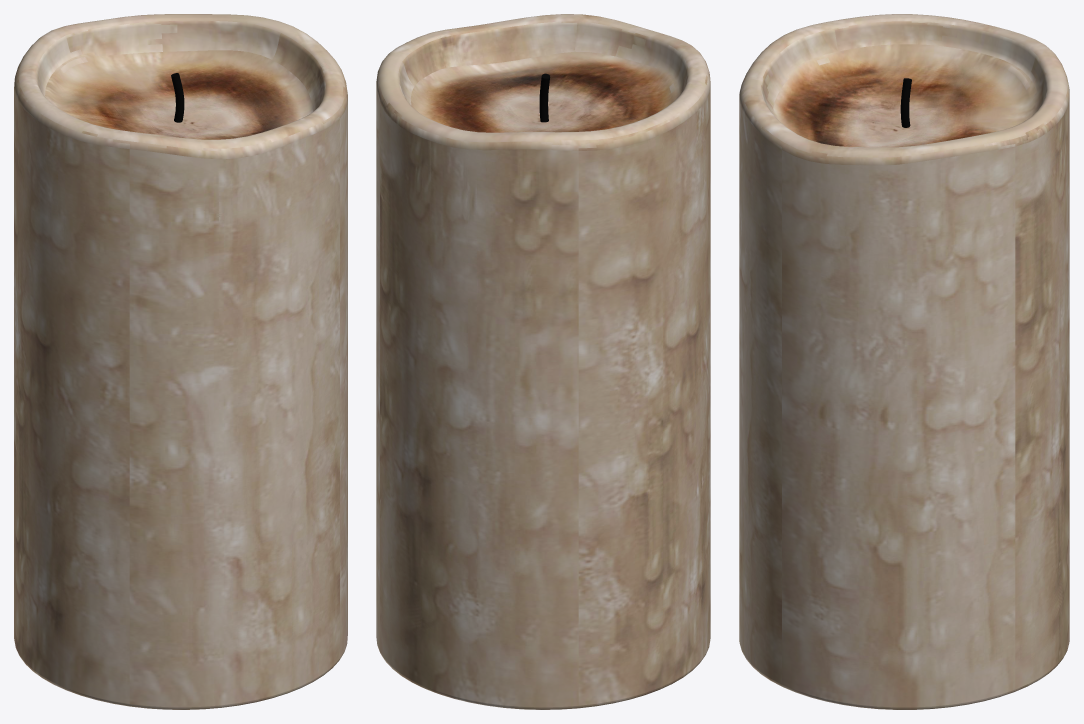
Rendered from Simple candle3.fbx.
3 views of the same model, side by side, from view 1: azimuth 30°, elevation 25°; view 2: azimuth 150°, elevation 25°; view 3: azimuth 270°, elevation 25° (orthographic).
Visible parts, largest first — view 1: Simple candle 3; view 2: Simple candle 3; view 3: Simple candle 3.
Part boxes in pixels (x1,y1,x2,y2): Simple candle 3: [14, 14, 347, 709]; Simple candle 3: [376, 14, 710, 709]; Simple candle 3: [739, 14, 1069, 709].
Bounding box in the file's own units: 9.41 × 17.78 × 9.41.
Materials: 1 (1 with a texture image).
